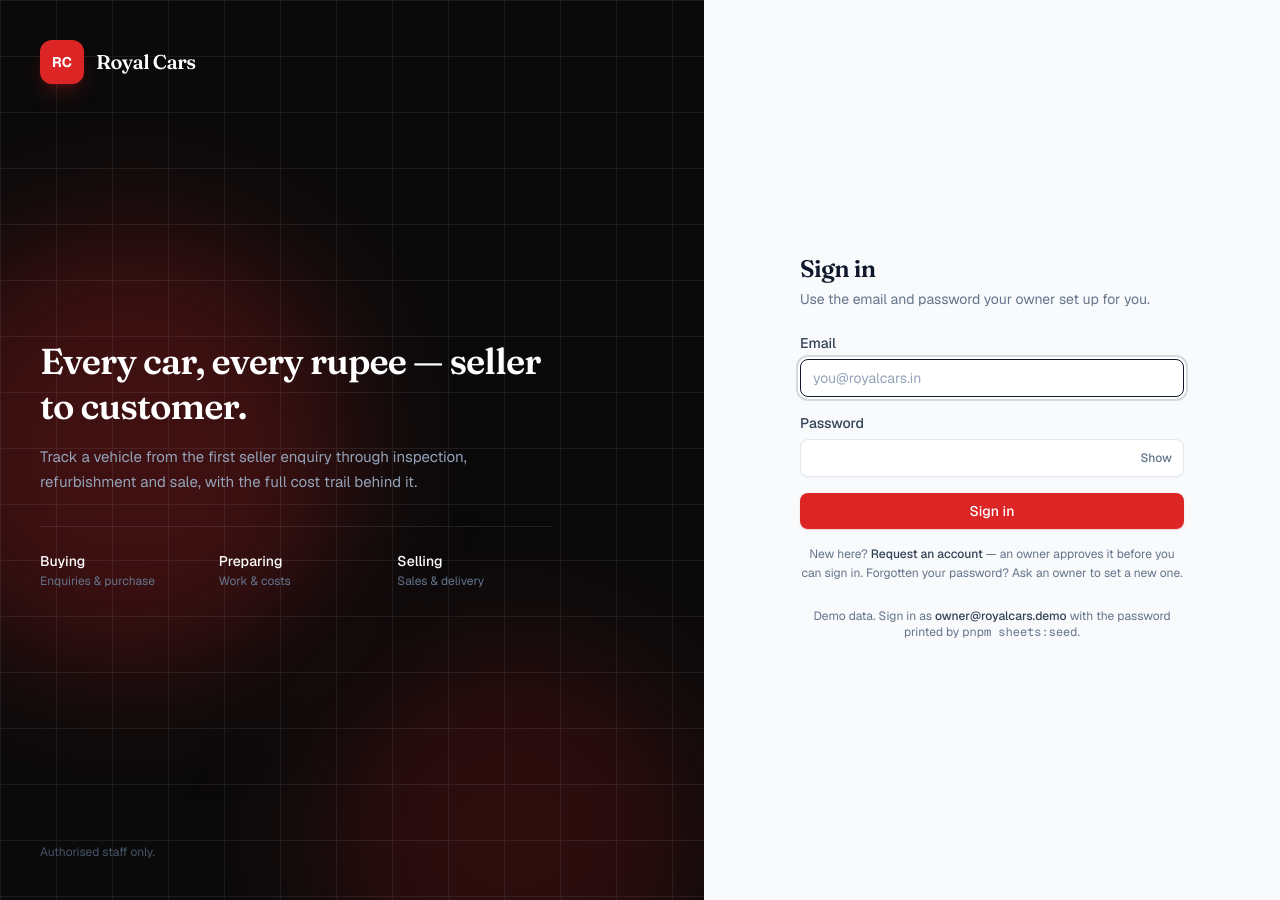
Sales, payments and delivery › lists sales
Type "owner@royalcars.demo" into the field labelled "Email" at (992, 378), box [800,359,1184,397]
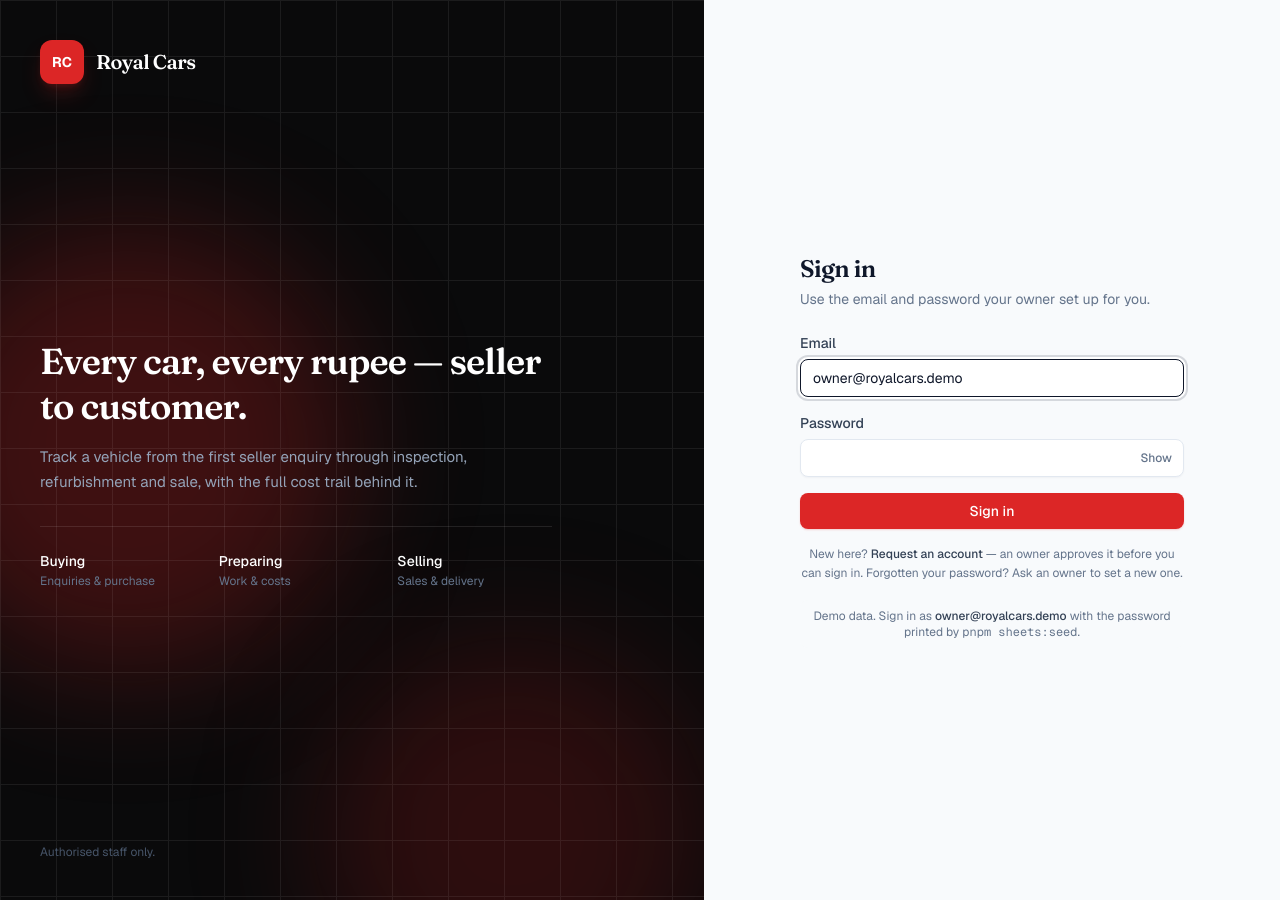
Type "Showroom-Demo-2026" into the password field at (992, 458), box [800,439,1184,477]
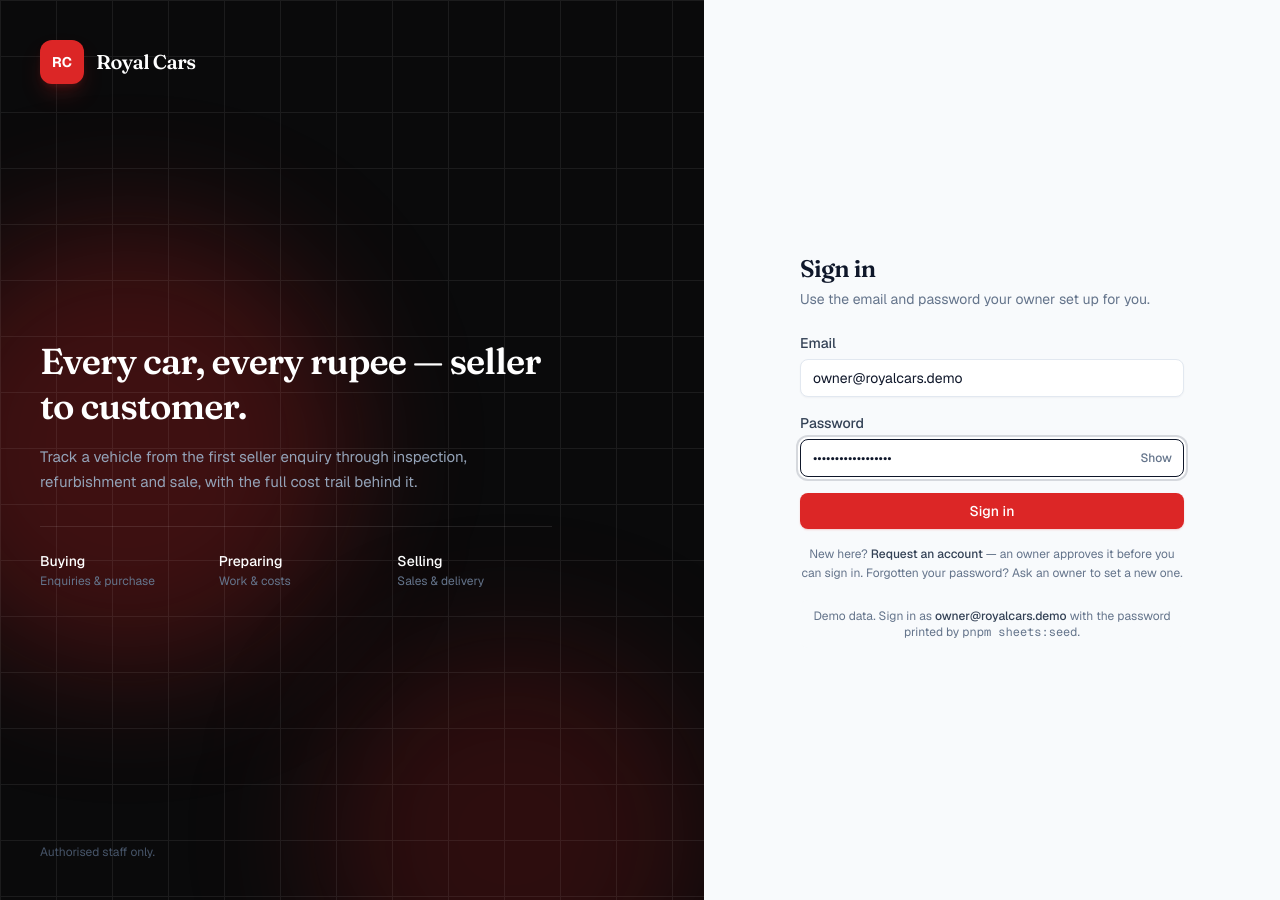
Click the submit button at (992, 511), box [800,493,1184,529]
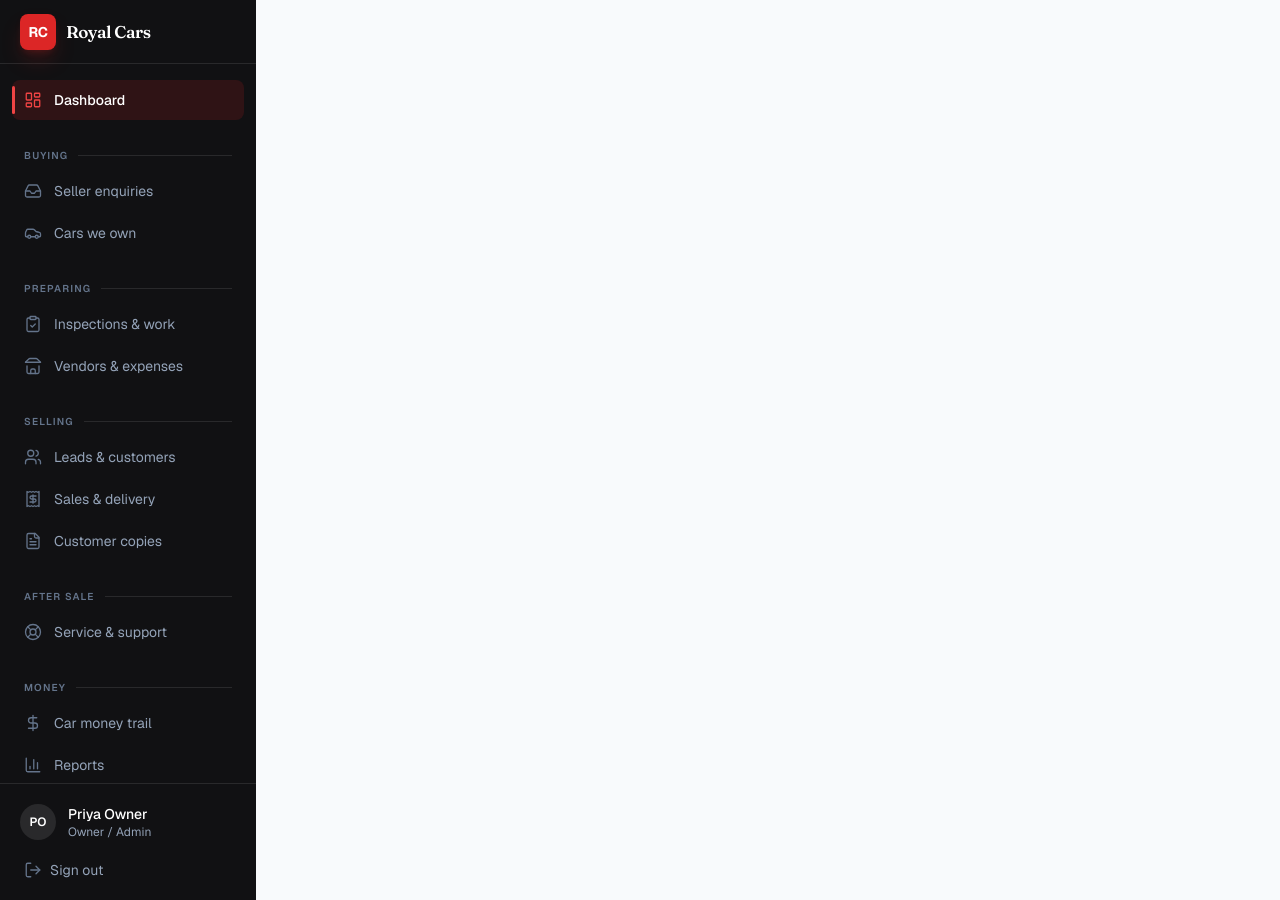
Open "/sales"
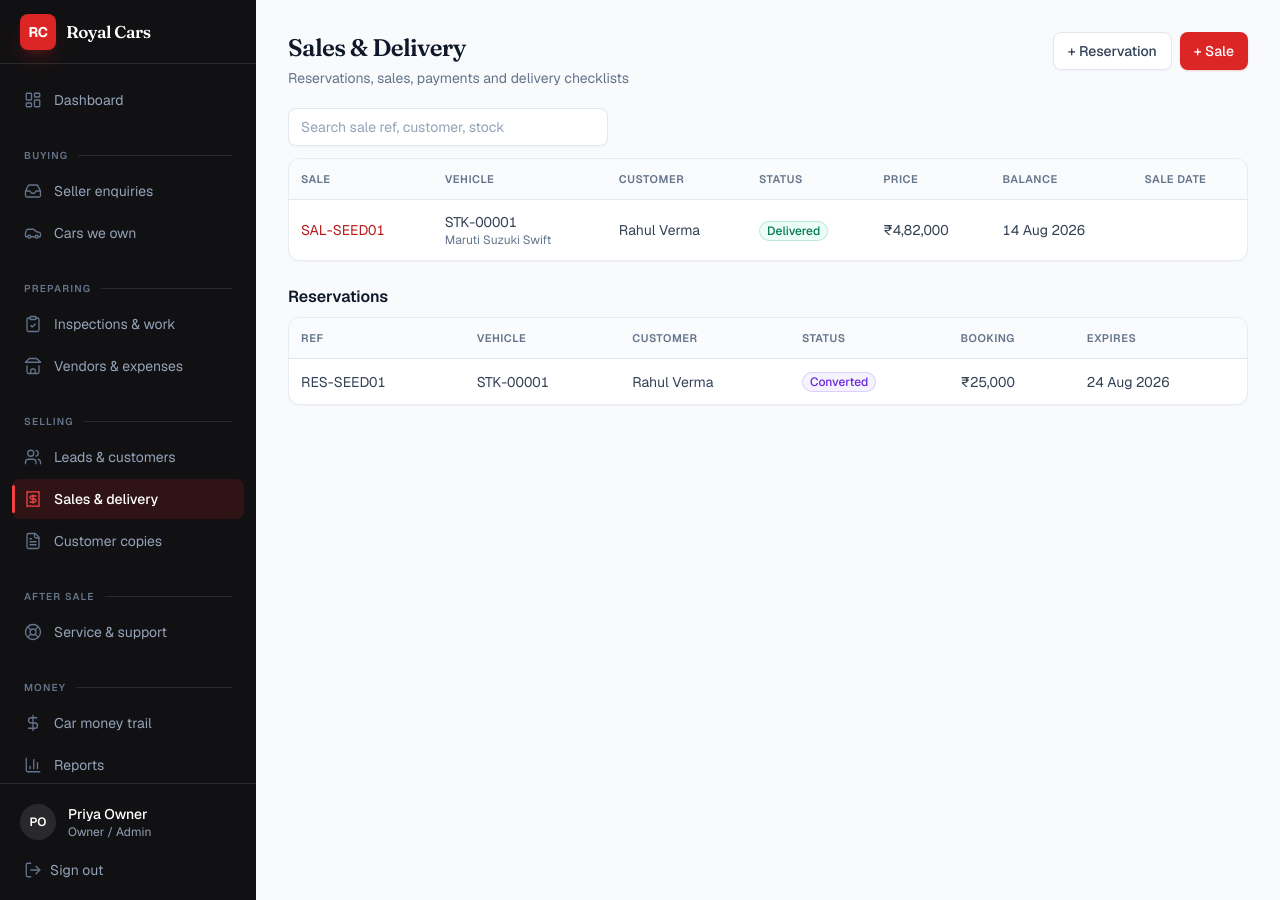
Result: the heading "Sales & Delivery" is shown at [288,33,466,62]
